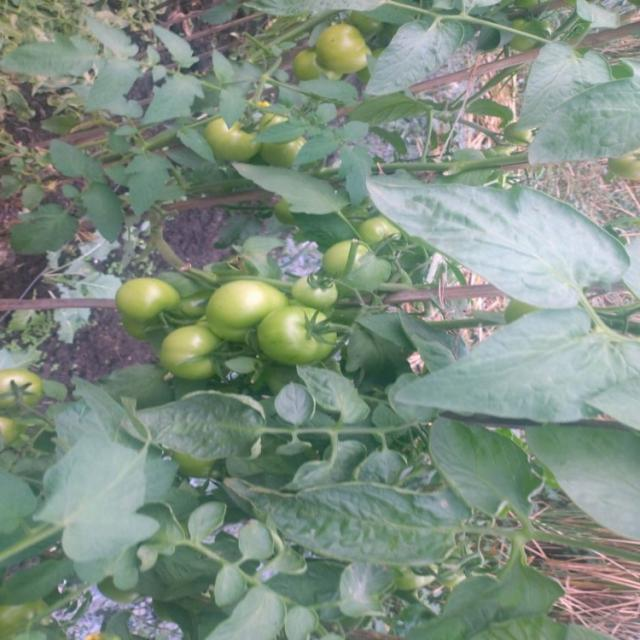tomato: (243, 301, 349, 369), (203, 264, 283, 348), (114, 265, 187, 347), (158, 319, 232, 385), (285, 266, 343, 316), (313, 27, 374, 74), (211, 120, 265, 166), (322, 237, 374, 277), (5, 365, 47, 412), (358, 213, 404, 254), (1, 411, 24, 452), (298, 51, 325, 80)
